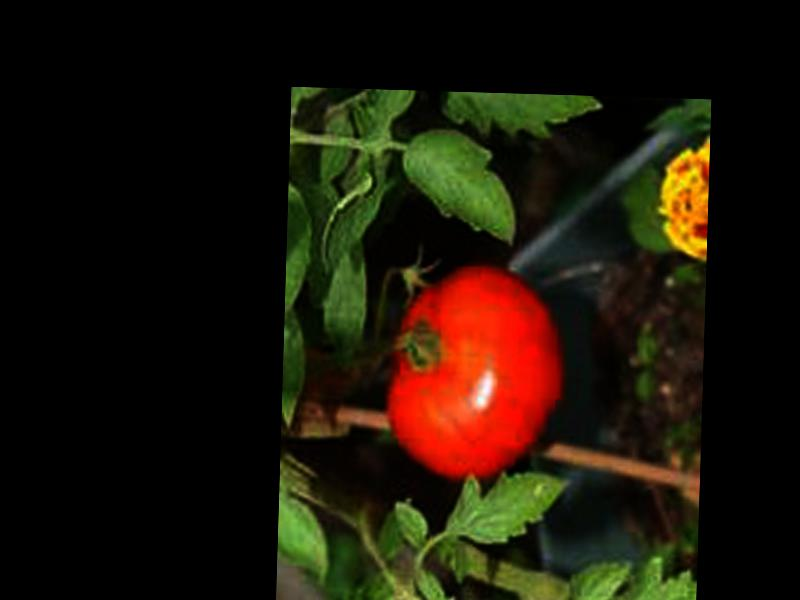Tomato: (382, 258, 565, 486)
